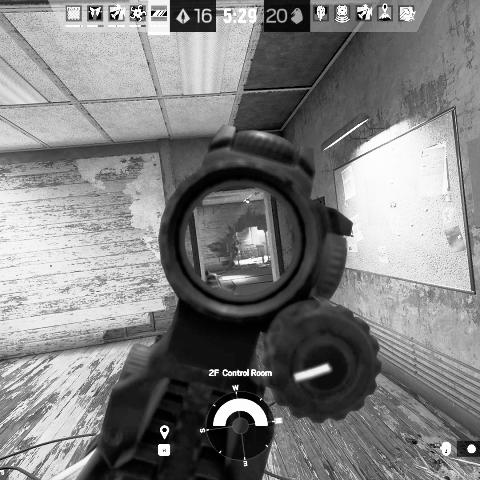Character: (231, 235, 242, 261)
Friend_label: (442, 197, 455, 209), (387, 201, 400, 212)
Head: (233, 236, 237, 239)
